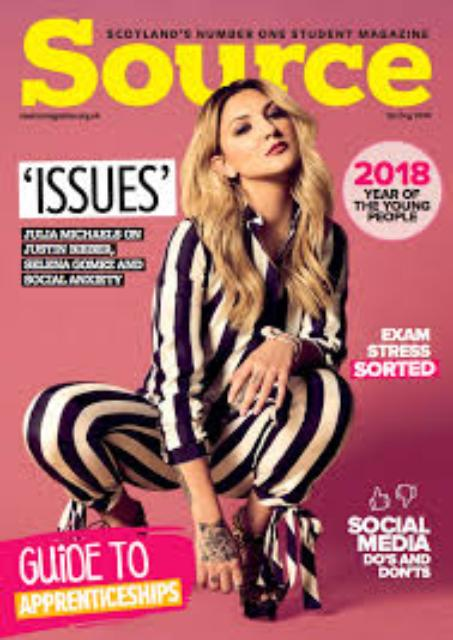cardboard paper: (125, 487, 187, 520)
